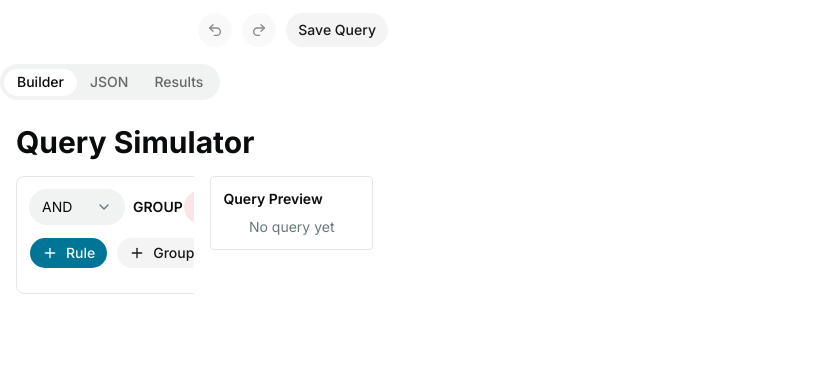
Test: Home integration › enables undo and redo controls for builder changes
The width and height of the screenshot is (828, 365).
expect the button named "Undo" is disabled: met, box [197, 12, 233, 48]
expect the button named "Redo" is disabled: met, box [241, 12, 277, 48]
Click the button "Rule": (69, 253) [29, 237, 108, 269]
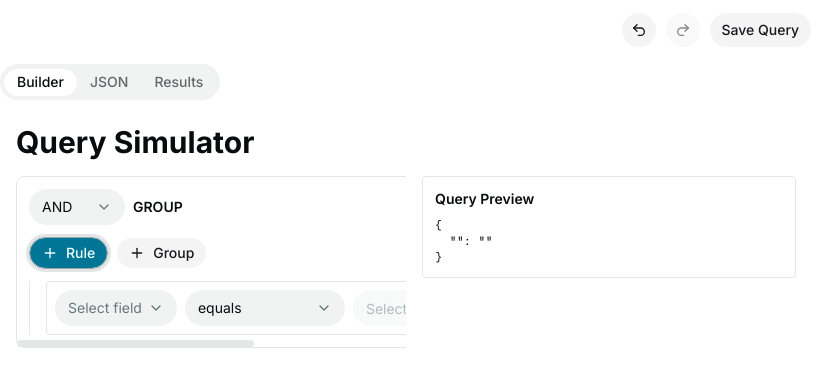
expect the button named "Redo" is disabled: met, box [664, 12, 700, 48]
expect the button named "Undo" is enabled: met
Click the button named "Undo": (638, 30) [620, 12, 656, 48]
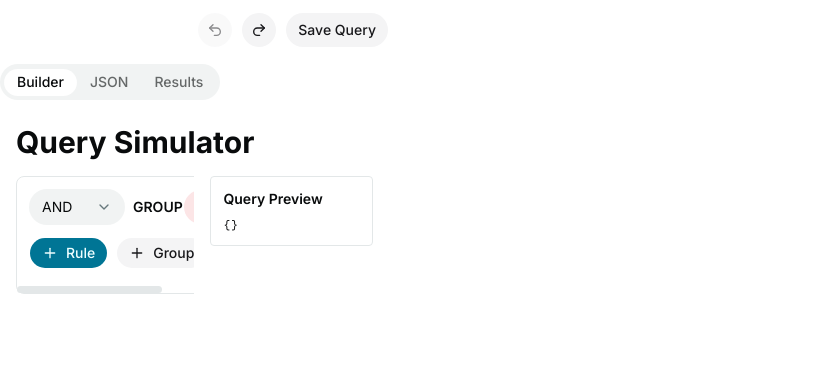
expect the button named "Undo" is disabled: met, box [197, 12, 233, 48]
expect the button named "Redo" is enabled: met
Click the button named "Redo": (259, 30) [241, 12, 277, 48]
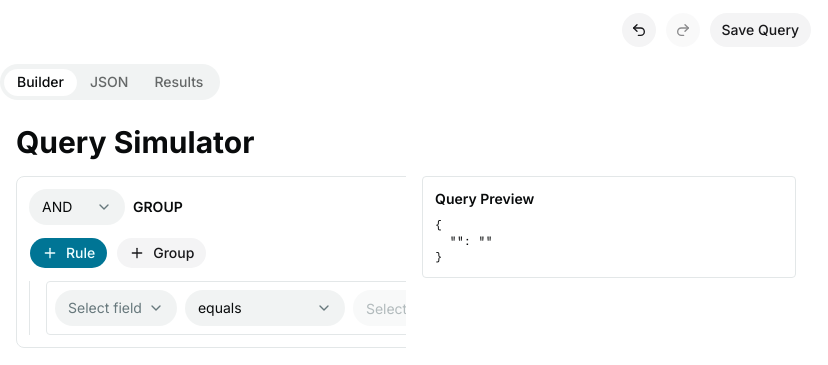
expect the button named "Undo" is enabled: met, box [620, 12, 656, 48]
expect the button named "Redo" is disabled: met, box [664, 12, 700, 48]
